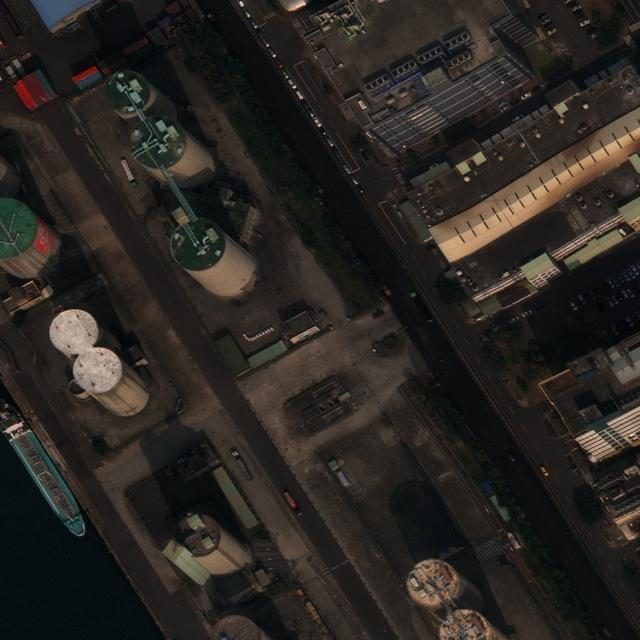Oil Tanker: (1, 398, 87, 536)
